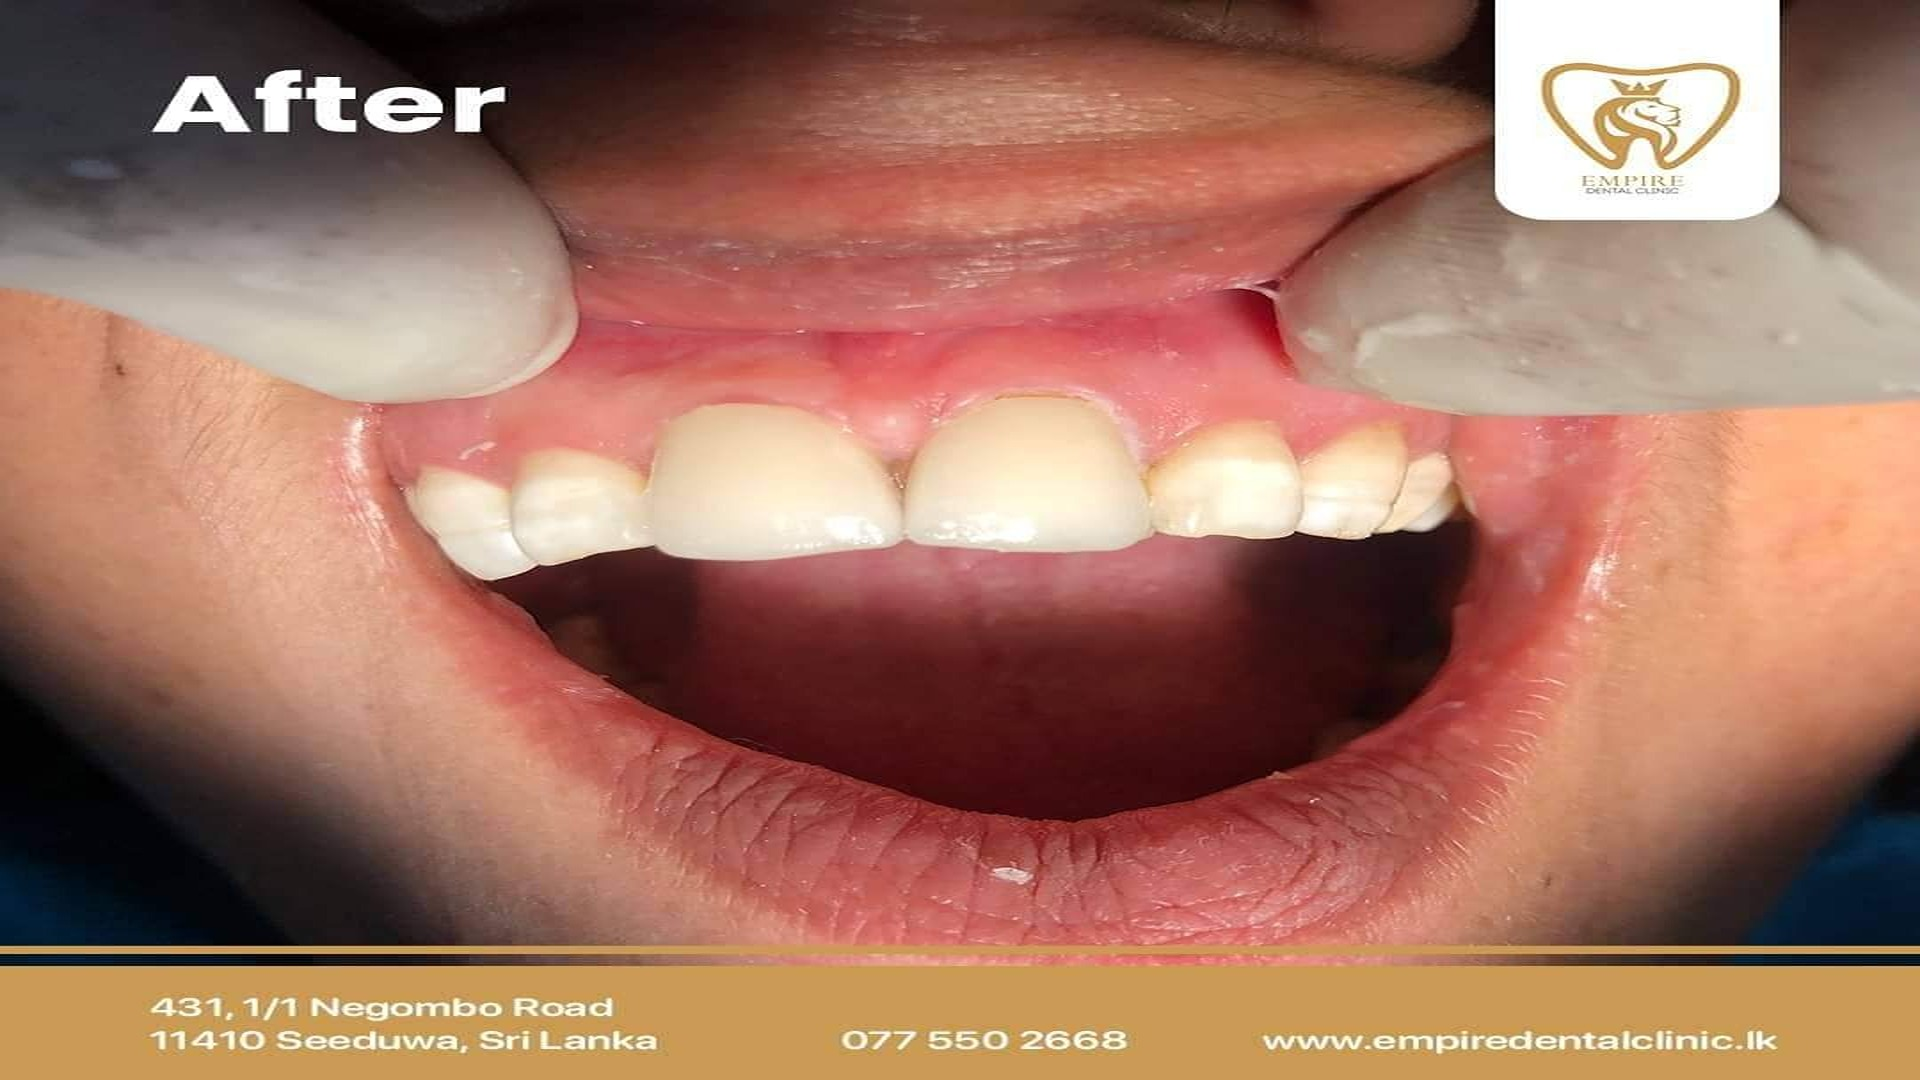tooth: (902, 389, 1153, 553), (645, 404, 905, 560), (1145, 419, 1303, 541), (510, 448, 655, 564), (402, 465, 537, 580), (1298, 425, 1408, 541), (1381, 452, 1460, 533)
